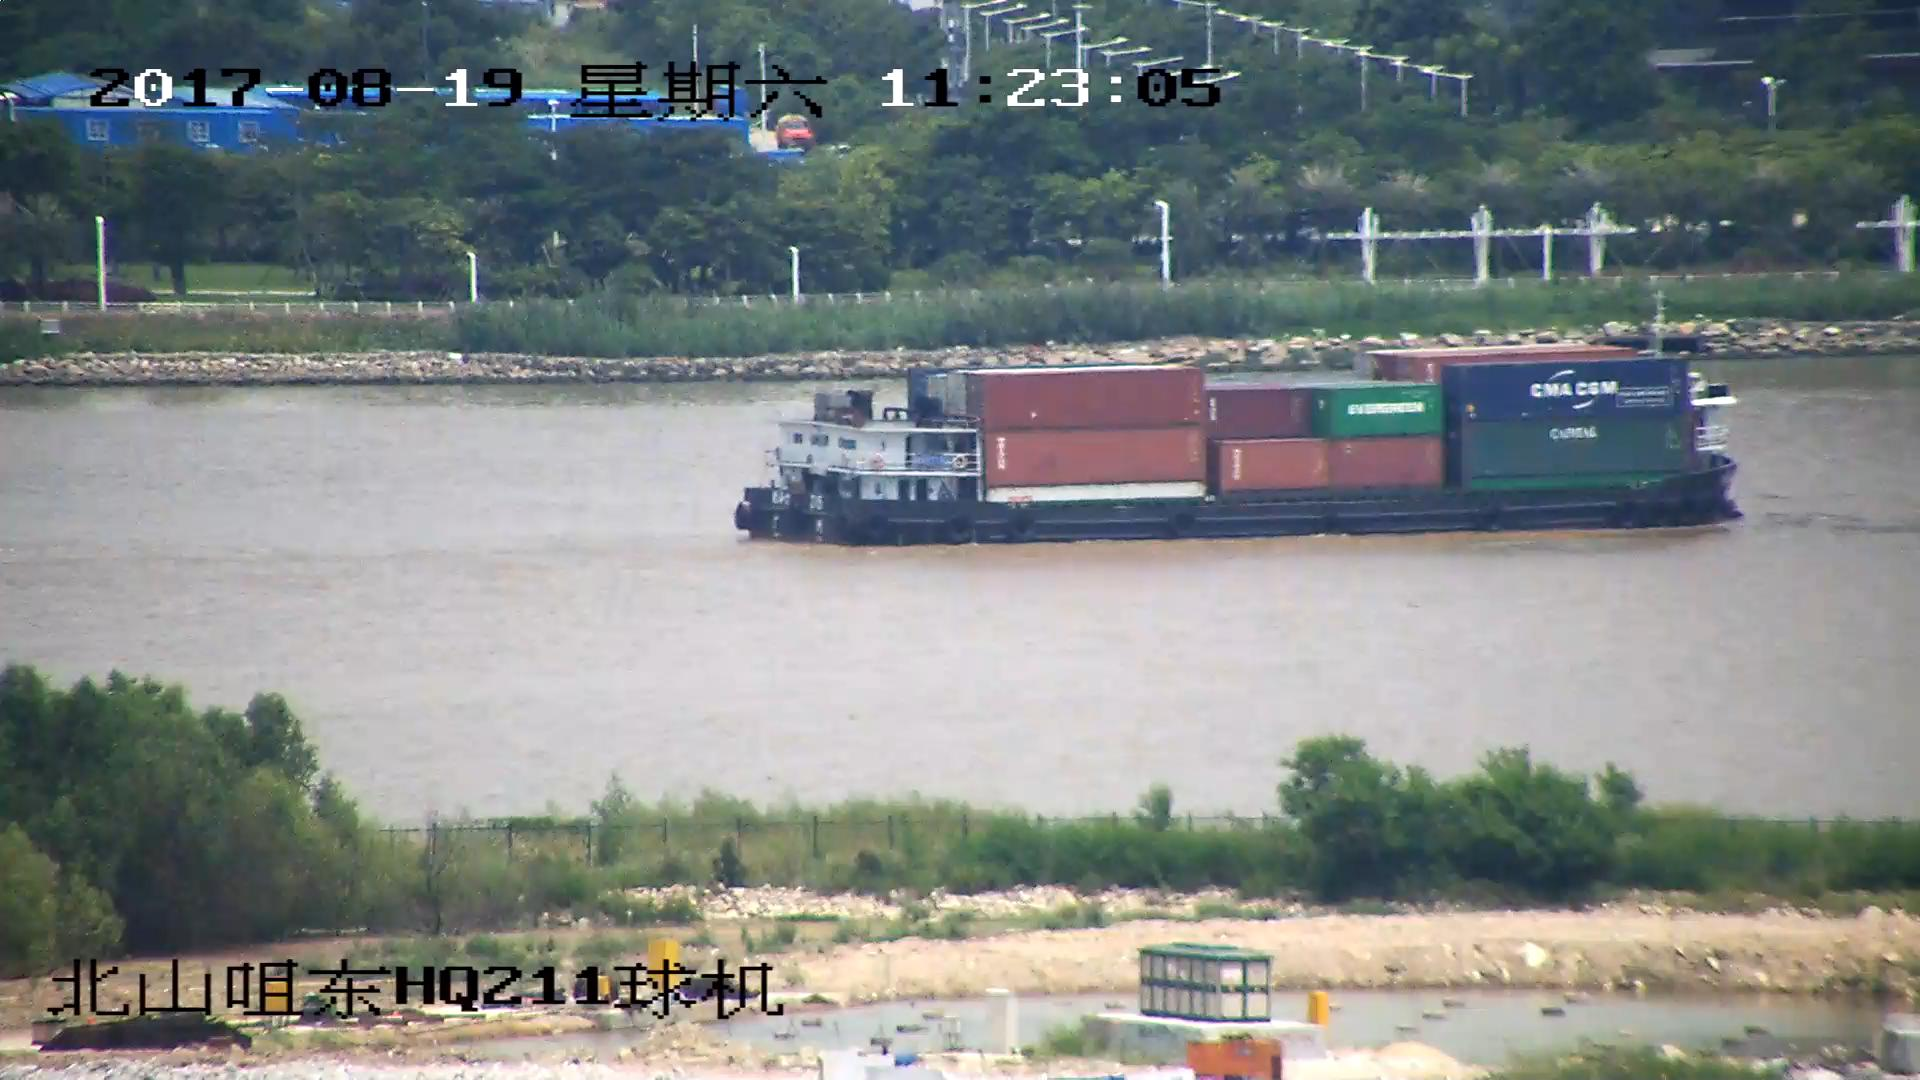container ship: (733, 305, 1752, 550)
